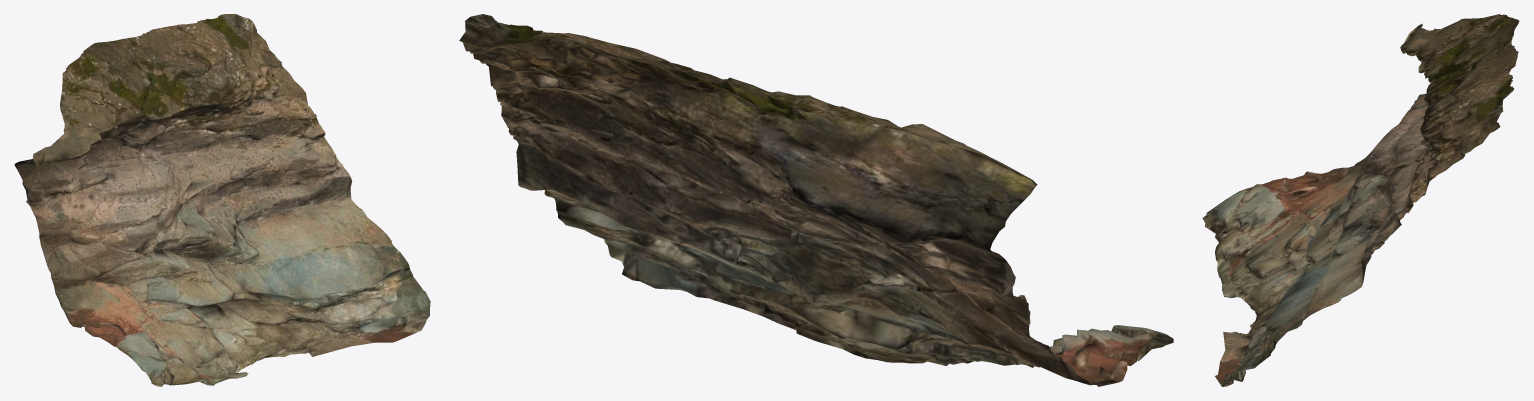
Rendered from rock_face_01.glb.
3 renders of one model, left to right at view 1: azimuth 30°, elevation 25°; view 2: azimuth 150°, elevation 25°; view 3: azimuth 270°, elevation 25°, orthographic. The views are drawn at different scales.
Visible parts, largest first — view 1: rock_face_01; view 2: rock_face_01; view 3: rock_face_01.
Boxes of the visible parts, bbox=[...] form: rock_face_01: bbox=[14, 14, 430, 386]; rock_face_01: bbox=[459, 14, 1173, 386]; rock_face_01: bbox=[1202, 14, 1519, 386].
Bounding box in the file's own units: 4.95 × 3.56 × 3.83.
Materials: 1 (1 with a texture image).
